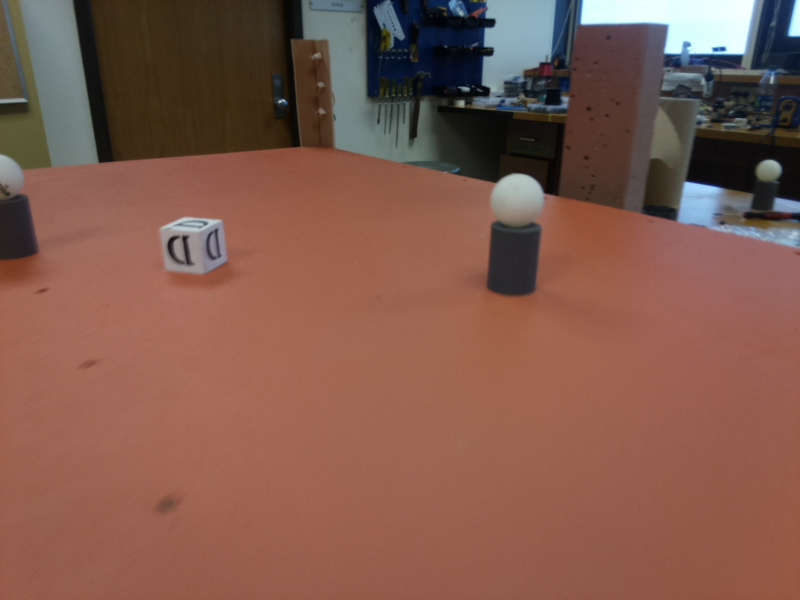blockD: (163, 215, 234, 280)
corner: (295, 39, 336, 144)
obstacle: (489, 174, 544, 303), (1, 150, 43, 264)
